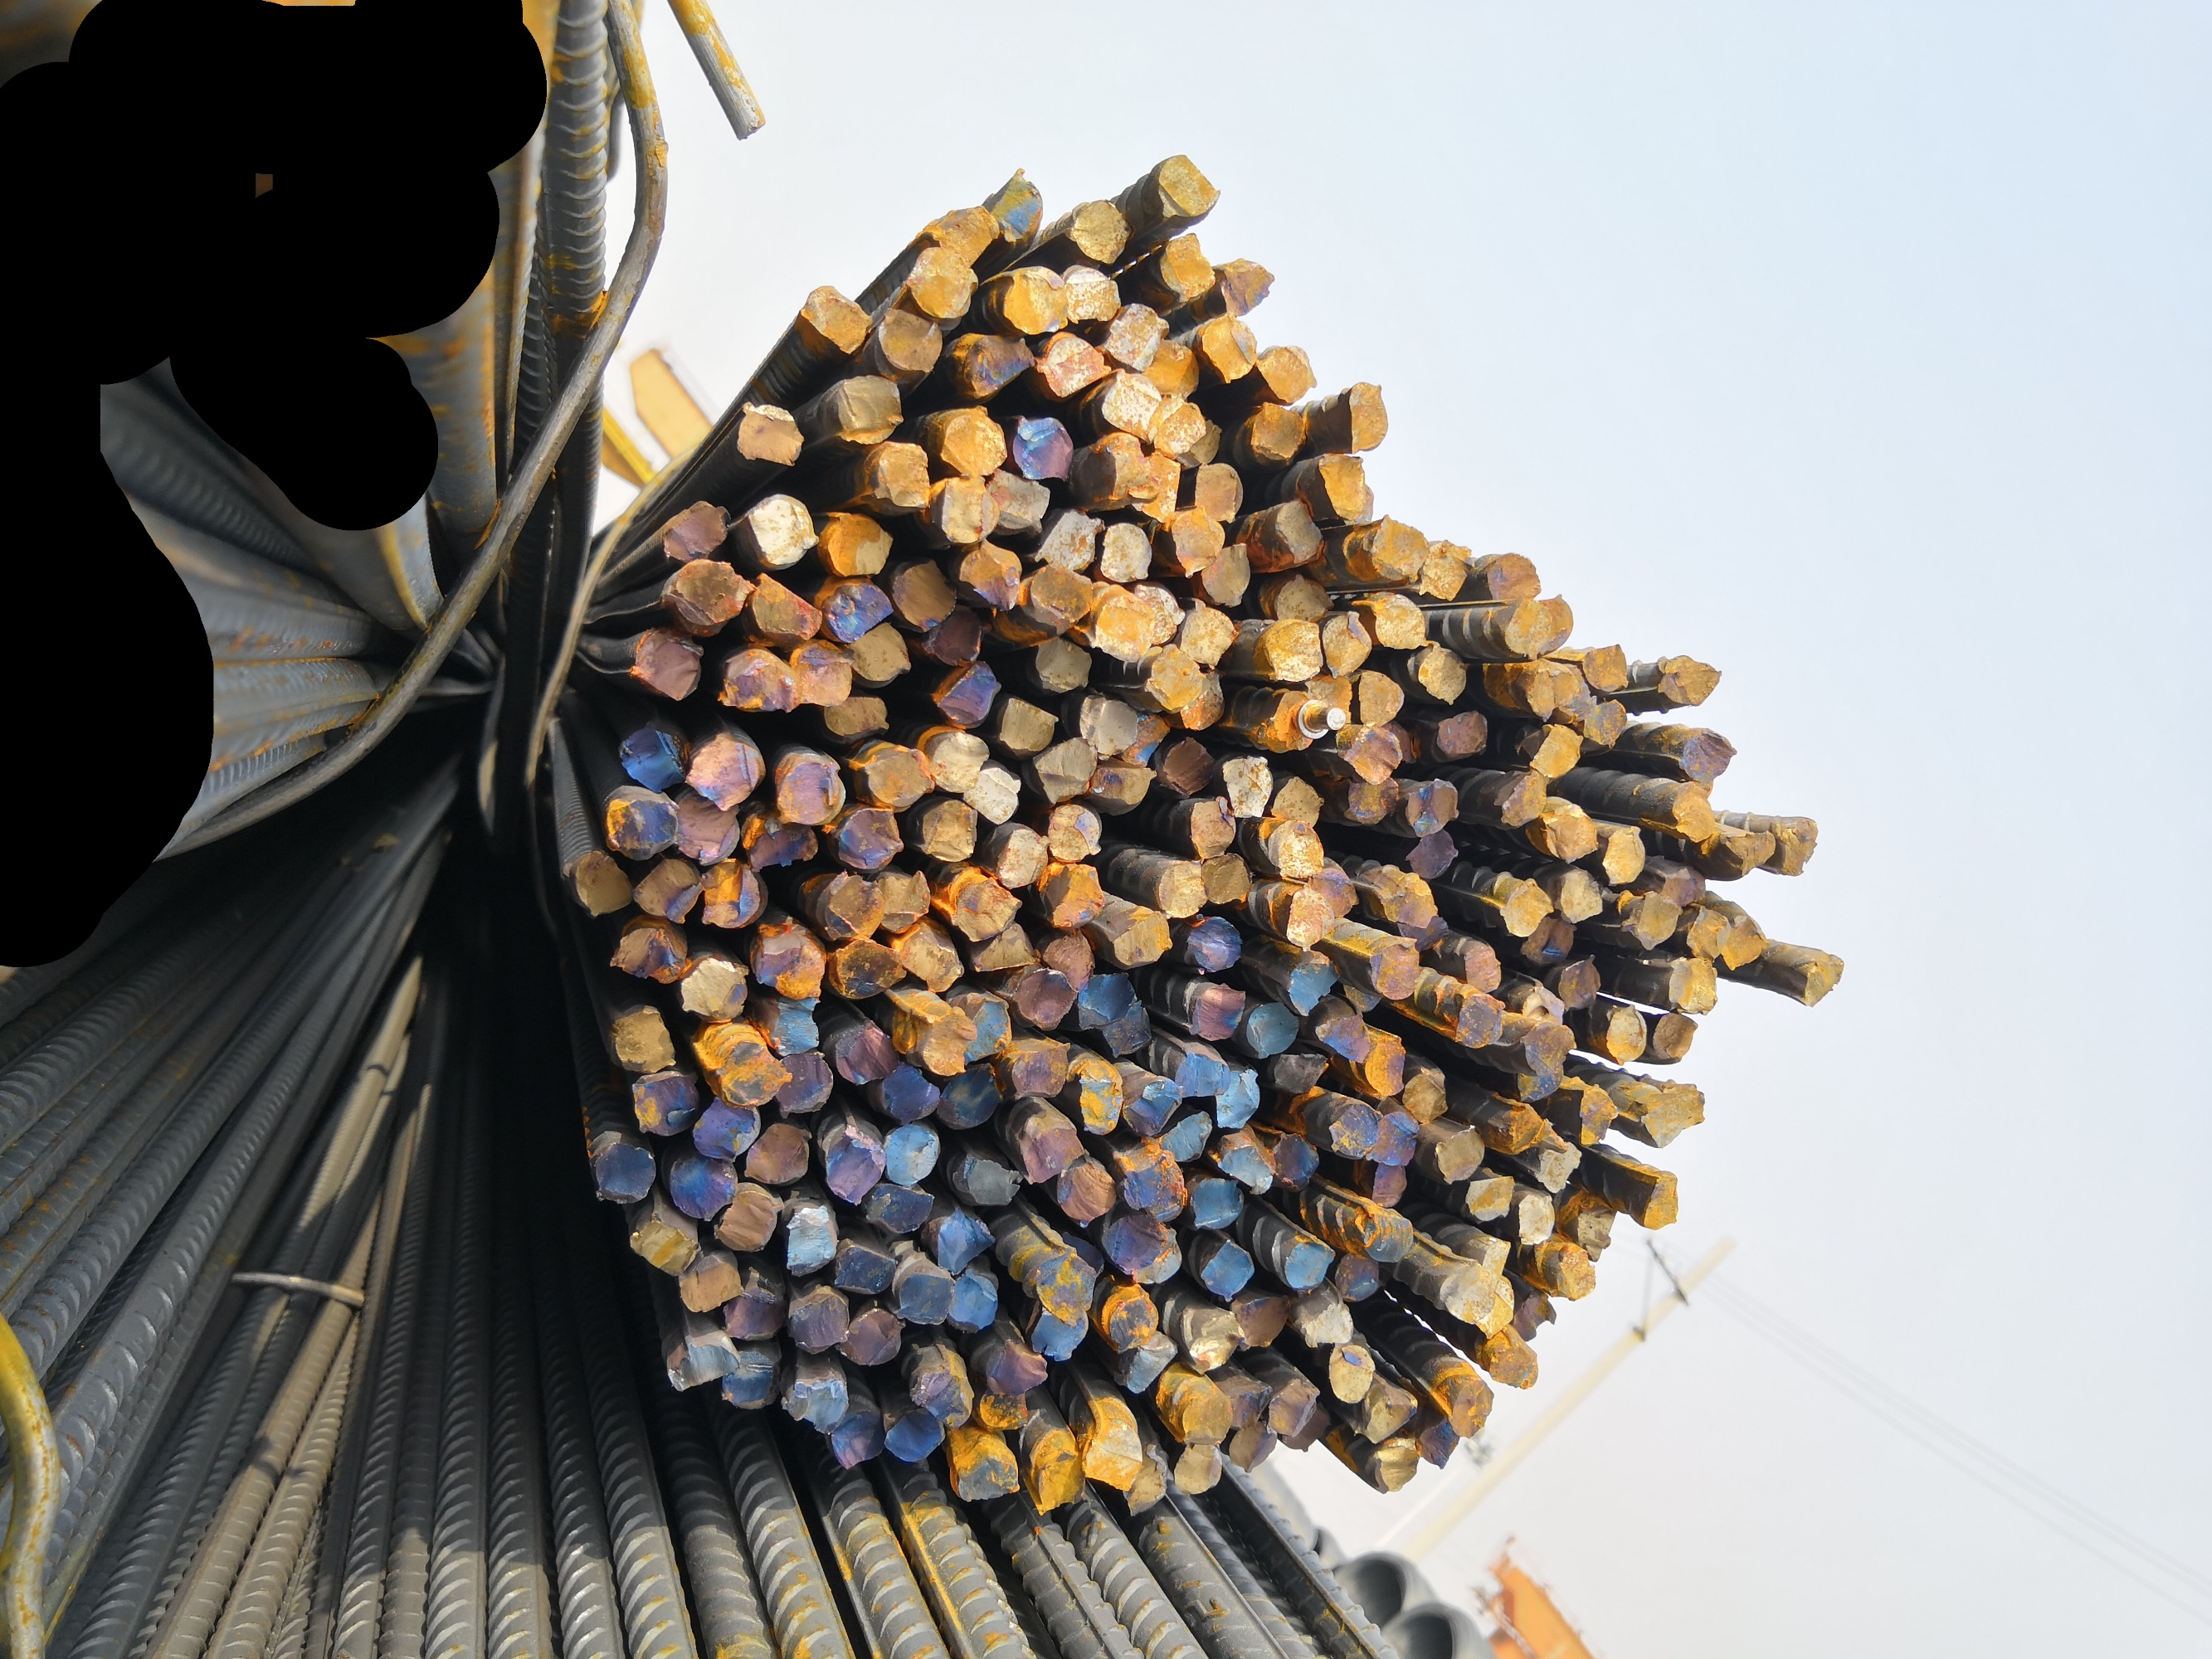rebar: (849, 741, 938, 814), (662, 558, 751, 627), (795, 282, 873, 361), (685, 728, 760, 810), (943, 873, 1025, 946), (603, 788, 682, 863), (664, 788, 739, 864), (624, 627, 702, 701), (1030, 328, 1112, 397), (708, 1037, 790, 1107), (751, 924, 824, 1000), (1009, 951, 1077, 1033), (784, 634, 858, 709), (770, 751, 845, 824), (743, 802, 819, 873), (746, 493, 816, 572), (748, 572, 826, 641), (1049, 1150, 1119, 1229), (962, 328, 1035, 401), (934, 410, 1009, 481), (830, 800, 905, 871), (709, 1183, 784, 1255), (891, 922, 962, 997), (1084, 589, 1156, 664), (1121, 1148, 1189, 1227), (1365, 507, 1431, 587), (872, 303, 943, 376), (997, 260, 1069, 333), (1021, 559, 1095, 631), (718, 647, 795, 714), (828, 1124, 887, 1211), (823, 511, 896, 580), (617, 725, 690, 795), (563, 847, 633, 920), (910, 246, 978, 321), (1060, 960, 1137, 1026), (664, 1333, 743, 1398), (824, 934, 905, 997), (608, 927, 690, 988), (1098, 429, 1159, 511), (1103, 301, 1173, 373), (835, 375, 906, 444), (1034, 505, 1105, 575), (1060, 199, 1133, 267), (673, 955, 748, 1021), (689, 1100, 763, 1166), (1499, 594, 1576, 659), (819, 572, 891, 640), (891, 559, 959, 631), (631, 857, 702, 925), (818, 873, 889, 941), (957, 537, 1021, 612), (1034, 1244, 1098, 1319), (872, 439, 934, 516), (828, 1019, 896, 1089), (936, 1061, 1006, 1129), (1037, 861, 1105, 931), (737, 397, 804, 469), (605, 1006, 676, 1072), (915, 793, 981, 864), (1361, 587, 1433, 653), (633, 1072, 706, 1136), (1077, 1420, 1142, 1493), (1168, 504, 1229, 580), (589, 1136, 657, 1204), (1452, 1267, 1520, 1335), (743, 1119, 812, 1185), (784, 1197, 838, 1283), (840, 617, 912, 681), (629, 1215, 701, 1279), (722, 1272, 786, 1344), (1264, 612, 1325, 687), (666, 1157, 734, 1223), (784, 1286, 851, 1354), (1020, 1119, 1088, 1185), (1185, 974, 1252, 1042), (1264, 812, 1330, 880), (1377, 866, 1445, 932), (929, 1206, 994, 1276), (1035, 735, 1098, 807), (1030, 1436, 1086, 1516), (699, 856, 760, 929), (919, 1004, 980, 1077), (1142, 640, 1203, 713), (924, 200, 999, 260), (985, 169, 1044, 244), (929, 662, 1004, 721), (1152, 153, 1218, 220), (955, 1445, 1021, 1511), (1105, 908, 1171, 974), (769, 1051, 833, 1119), (1060, 258, 1123, 328), (1011, 413, 1074, 483), (673, 1249, 743, 1312), (1215, 249, 1276, 321), (718, 1340, 779, 1412), (1100, 1202, 1159, 1276), (985, 467, 1051, 532), (938, 477, 1002, 544), (1276, 887, 1340, 953), (1353, 1199, 1417, 1265), (662, 498, 730, 561), (870, 1060, 938, 1122), (1100, 369, 1161, 439), (1154, 232, 1213, 303), (880, 1119, 940, 1190), (1180, 596, 1238, 669), (1072, 692, 1137, 756), (837, 1305, 903, 1368), (866, 870, 933, 932), (1248, 397, 1311, 464), (880, 1405, 948, 1466), (1654, 648, 1722, 709), (1203, 314, 1257, 390), (1218, 751, 1276, 823), (1030, 633, 1095, 695), (1044, 802, 1107, 866), (1788, 948, 1853, 1011), (912, 1364, 973, 1431), (1185, 1310, 1246, 1377), (1262, 1377, 1323, 1443), (1002, 1040, 1069, 1101), (929, 727, 990, 793), (994, 692, 1060, 753), (1365, 934, 1426, 1000), (1316, 450, 1368, 526), (837, 1239, 899, 1302), (922, 601, 983, 666), (1252, 343, 1316, 404), (1340, 721, 1401, 786), (1492, 875, 1557, 936), (1619, 889, 1684, 950), (1198, 1236, 1257, 1302), (1123, 1073, 1182, 1140), (1072, 1061, 1124, 1136), (1201, 540, 1259, 608), (1271, 497, 1328, 565), (959, 1155, 1028, 1211), (1414, 535, 1469, 605), (1131, 1216, 1184, 1290), (1137, 451, 1189, 525), (1262, 692, 1323, 755), (784, 1371, 849, 1431), (1177, 1385, 1236, 1450), (947, 1267, 1004, 1333), (971, 920, 1039, 976), (1187, 917, 1248, 978), (1138, 338, 1201, 397), (985, 1335, 1049, 1392), (1100, 521, 1157, 586), (1598, 824, 1654, 890), (1123, 1328, 1177, 1396), (1325, 1342, 1379, 1410), (1492, 1326, 1546, 1394), (1445, 1371, 1497, 1441), (1435, 1121, 1487, 1190), (1344, 378, 1389, 458), (763, 995, 824, 1054), (1166, 1438, 1227, 1497), (990, 828, 1051, 887), (964, 765, 1023, 826), (1494, 767, 1555, 826), (1211, 1061, 1262, 1133), (1231, 1293, 1288, 1356), (1096, 997, 1154, 1060), (1281, 950, 1339, 1012), (1677, 728, 1740, 786), (1187, 795, 1243, 859), (1154, 856, 1210, 920), (818, 1412, 885, 1464), (1135, 579, 1187, 647), (865, 1183, 934, 1234), (1640, 1084, 1691, 1154), (1297, 1293, 1356, 1352), (1028, 1304, 1089, 1361), (1666, 955, 1722, 1018), (1396, 1065, 1452, 1127), (1161, 734, 1215, 798), (1154, 394, 1208, 458), (1328, 1096, 1382, 1161), (1417, 641, 1469, 708), (1713, 823, 1780, 875), (1325, 608, 1372, 681), (1302, 666, 1353, 734), (894, 1267, 953, 1324), (1361, 1384, 1419, 1443), (1677, 906, 1736, 964), (1518, 1014, 1578, 1072), (1110, 1295, 1166, 1356), (1272, 570, 1335, 624), (818, 690, 889, 737), (1279, 1405, 1337, 1462), (1171, 1044, 1231, 1100), (1217, 1136, 1272, 1195), (1523, 723, 1584, 777), (1358, 1037, 1412, 1098), (1192, 462, 1245, 525), (1269, 769, 1321, 831), (1093, 762, 1157, 812), (1177, 669, 1227, 734), (1264, 1044, 1330, 1093), (1157, 1107, 1215, 1162), (1302, 864, 1358, 922), (1551, 953, 1607, 1011), (1450, 993, 1508, 1049), (1340, 770, 1400, 824), (1520, 664, 1579, 718), (1578, 694, 1632, 753), (1541, 809, 1600, 863), (1774, 816, 1822, 884), (1604, 1000, 1651, 1068), (1400, 828, 1462, 878), (1482, 552, 1544, 603), (1557, 864, 1607, 927), (964, 997, 1009, 1066), (1041, 931, 1096, 986), (1191, 1175, 1245, 1232), (1574, 640, 1632, 694), (1117, 1450, 1170, 1509), (1356, 669, 1408, 728), (1431, 704, 1490, 756), (1199, 849, 1252, 908), (1313, 1012, 1372, 1065), (1370, 1438, 1421, 1499), (1407, 777, 1457, 838), (1518, 913, 1579, 964), (1117, 709, 1170, 767), (1246, 997, 1297, 1056), (1668, 788, 1717, 849), (1394, 906, 1455, 955), (1720, 911, 1768, 974), (1672, 1077, 1719, 1140), (1536, 1136, 1583, 1199), (978, 1378, 1032, 1432), (1279, 1234, 1333, 1288), (1501, 1101, 1555, 1155), (1462, 1171, 1518, 1223), (1513, 1284, 1562, 1344), (1576, 1086, 1621, 1148), (1222, 1422, 1279, 1471), (1269, 1129, 1316, 1188), (1372, 1105, 1419, 1164), (1513, 1187, 1558, 1248), (1572, 1202, 1618, 1263), (1551, 1244, 1600, 1300), (1227, 1373, 1274, 1431), (1178, 415, 1227, 467), (1651, 1011, 1700, 1063), (1515, 1058, 1569, 1105), (1417, 1413, 1462, 1469), (1457, 939, 1503, 995), (1642, 1169, 1682, 1232), (1377, 713, 1426, 763), (1335, 1251, 1381, 1304), (1368, 1162, 1414, 1208), (1658, 866, 1706, 908), (1515, 985, 1564, 1026), (1340, 978, 1389, 1016), (1475, 1234, 1511, 1276)
